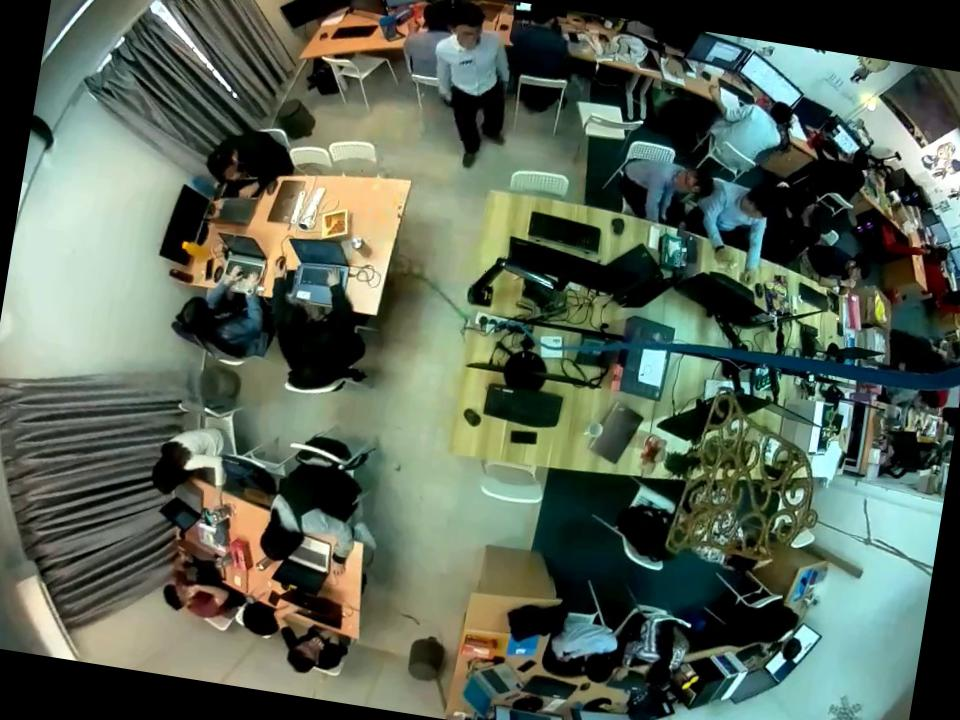employee_tag: (456, 56, 476, 74)
